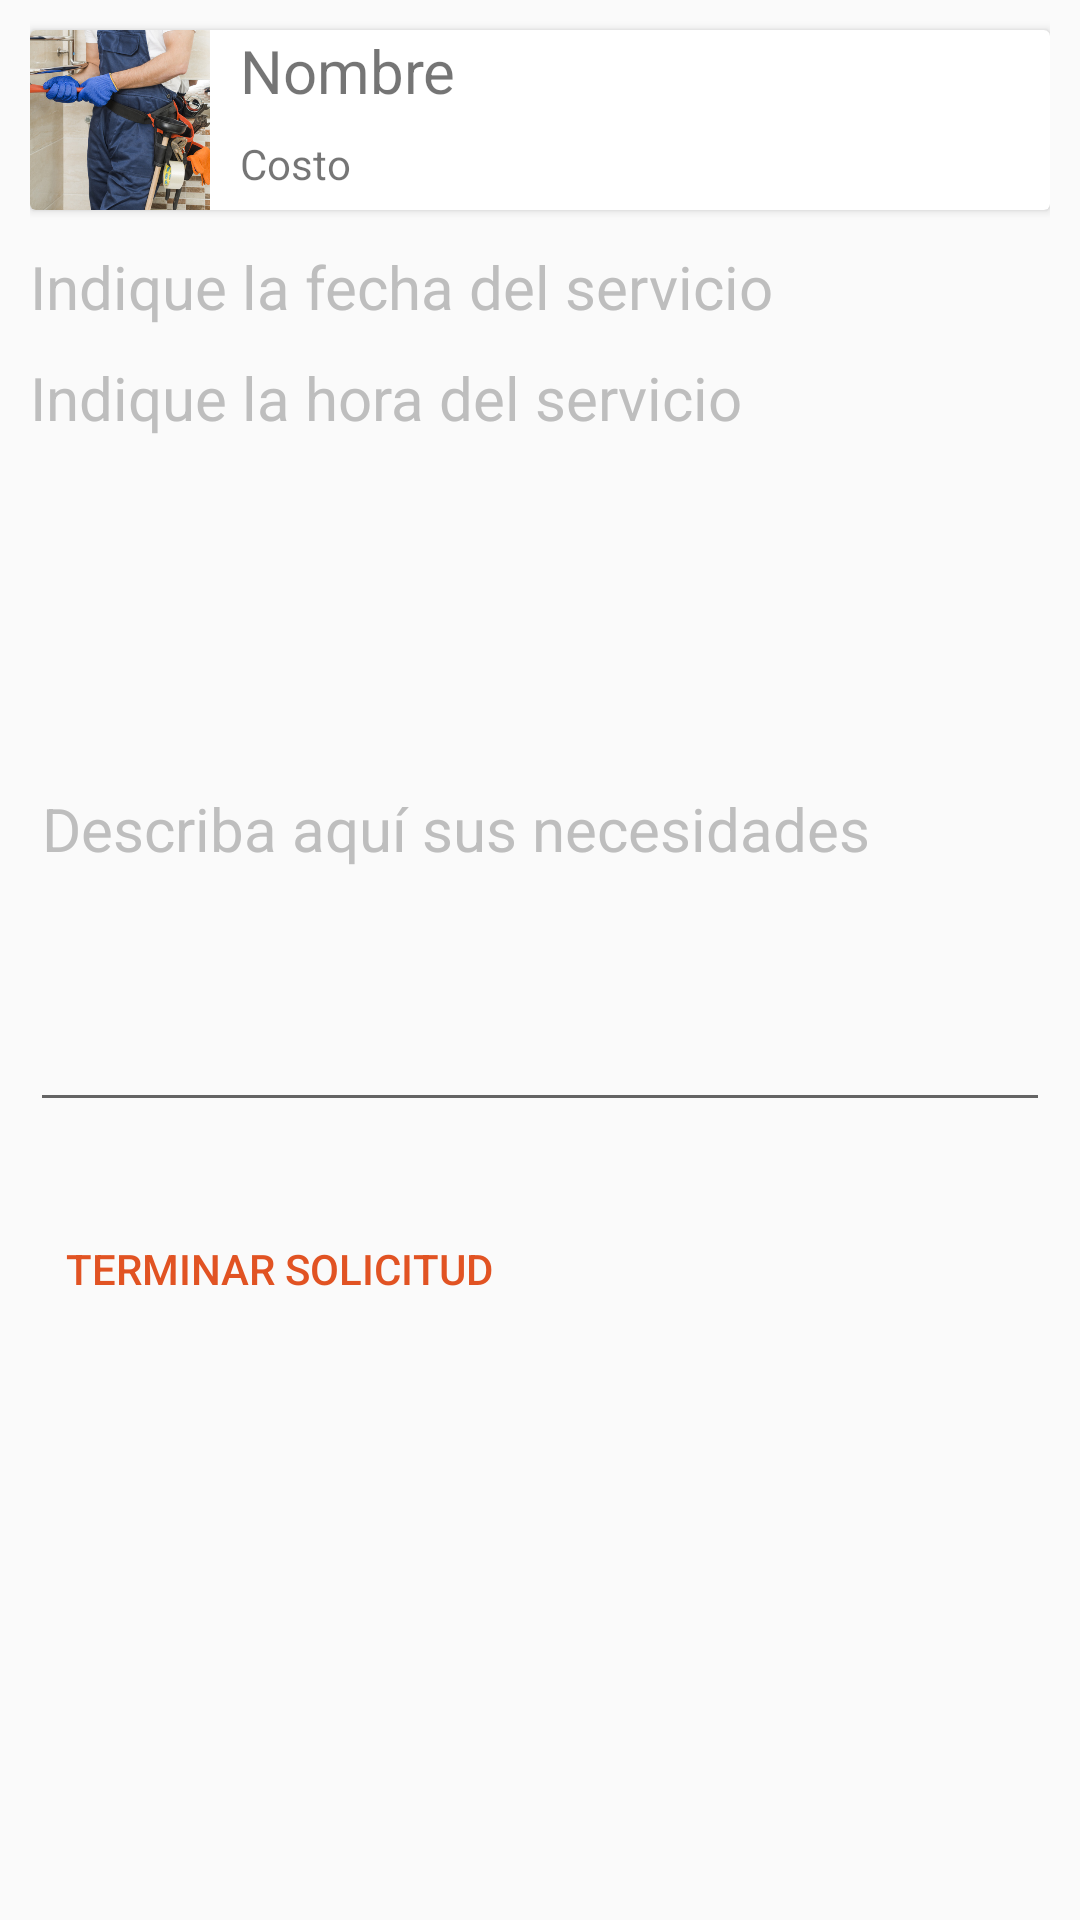

Icon bounding boxes for this 1080px x 1920px phone screenshot, format box=[x1, y1, x2, y2]:
plomero: box=[30, 30, 210, 210]
